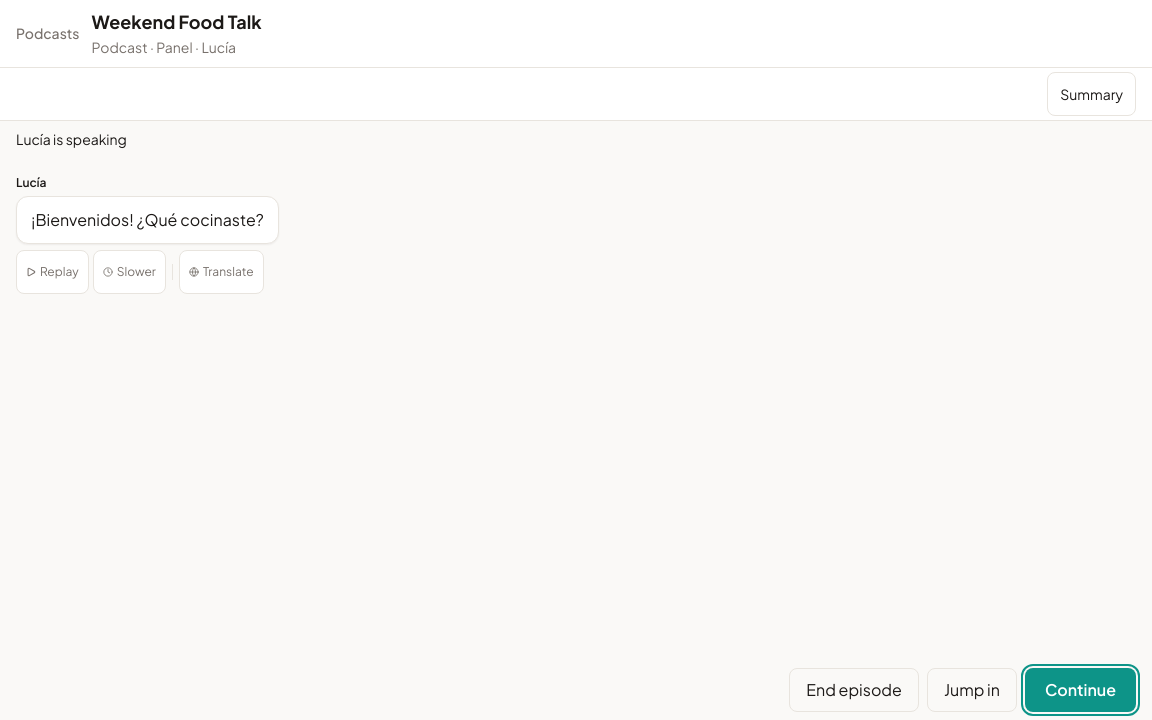
Test: PodcastEpisode page — Panel › opens the input bar, suggestions and the helper after Jump in
Click the button "Jump in" at (972, 690), box 927,668 -> 1017,712
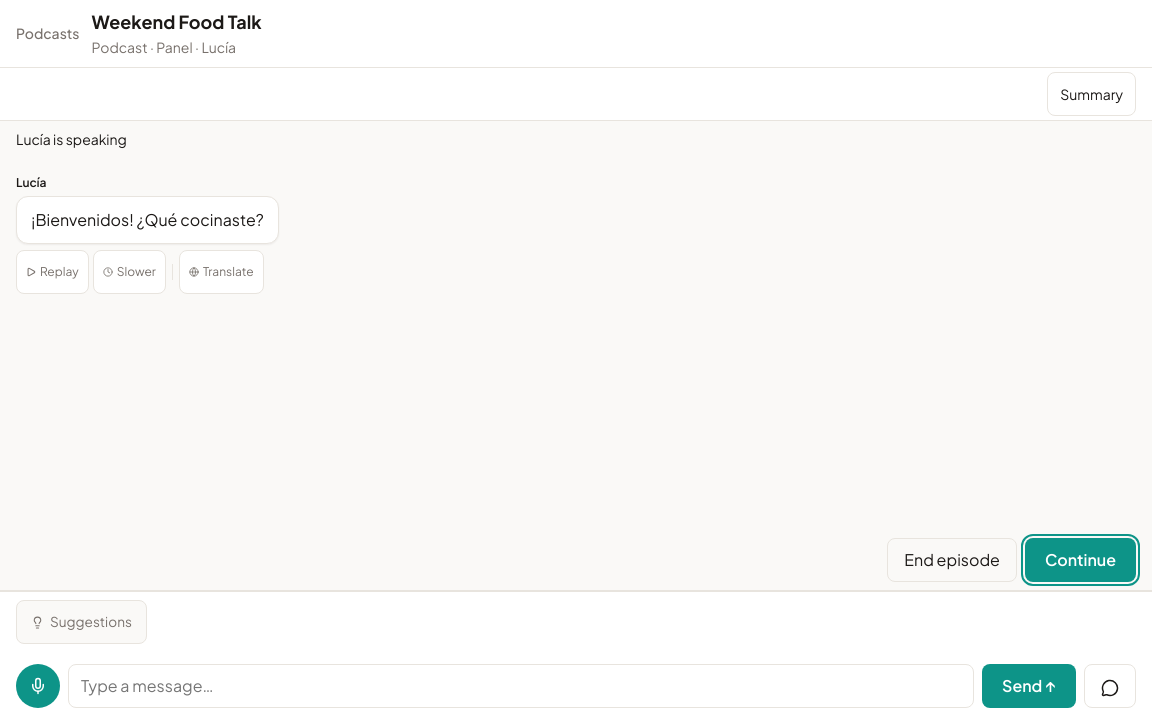
Now the field labelled "Type a message" is shown, box 68,664 -> 974,708
Now the button "Suggestions" is shown, box 16,600 -> 147,644
Now the button named "expression helper" is shown, box 1084,664 -> 1136,708
